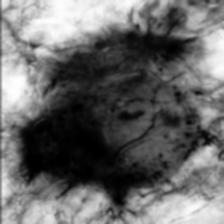Potentially Malignant Skin Tumors: (10, 57, 214, 185)
